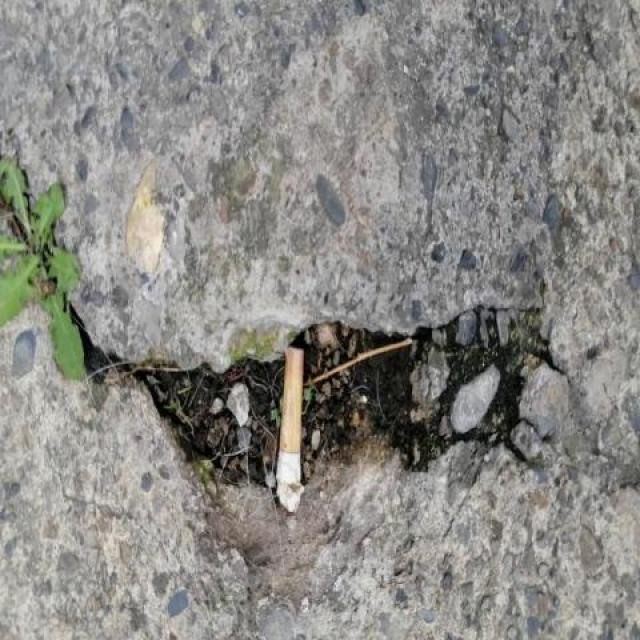non-organic waste: (267, 339, 313, 493)
